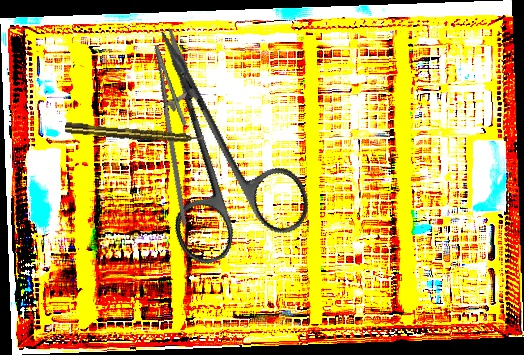Handpiece: (64, 120, 205, 147)
Iris Scissors: (105, 3, 319, 271)
Needle Holder: (132, 41, 222, 226)
